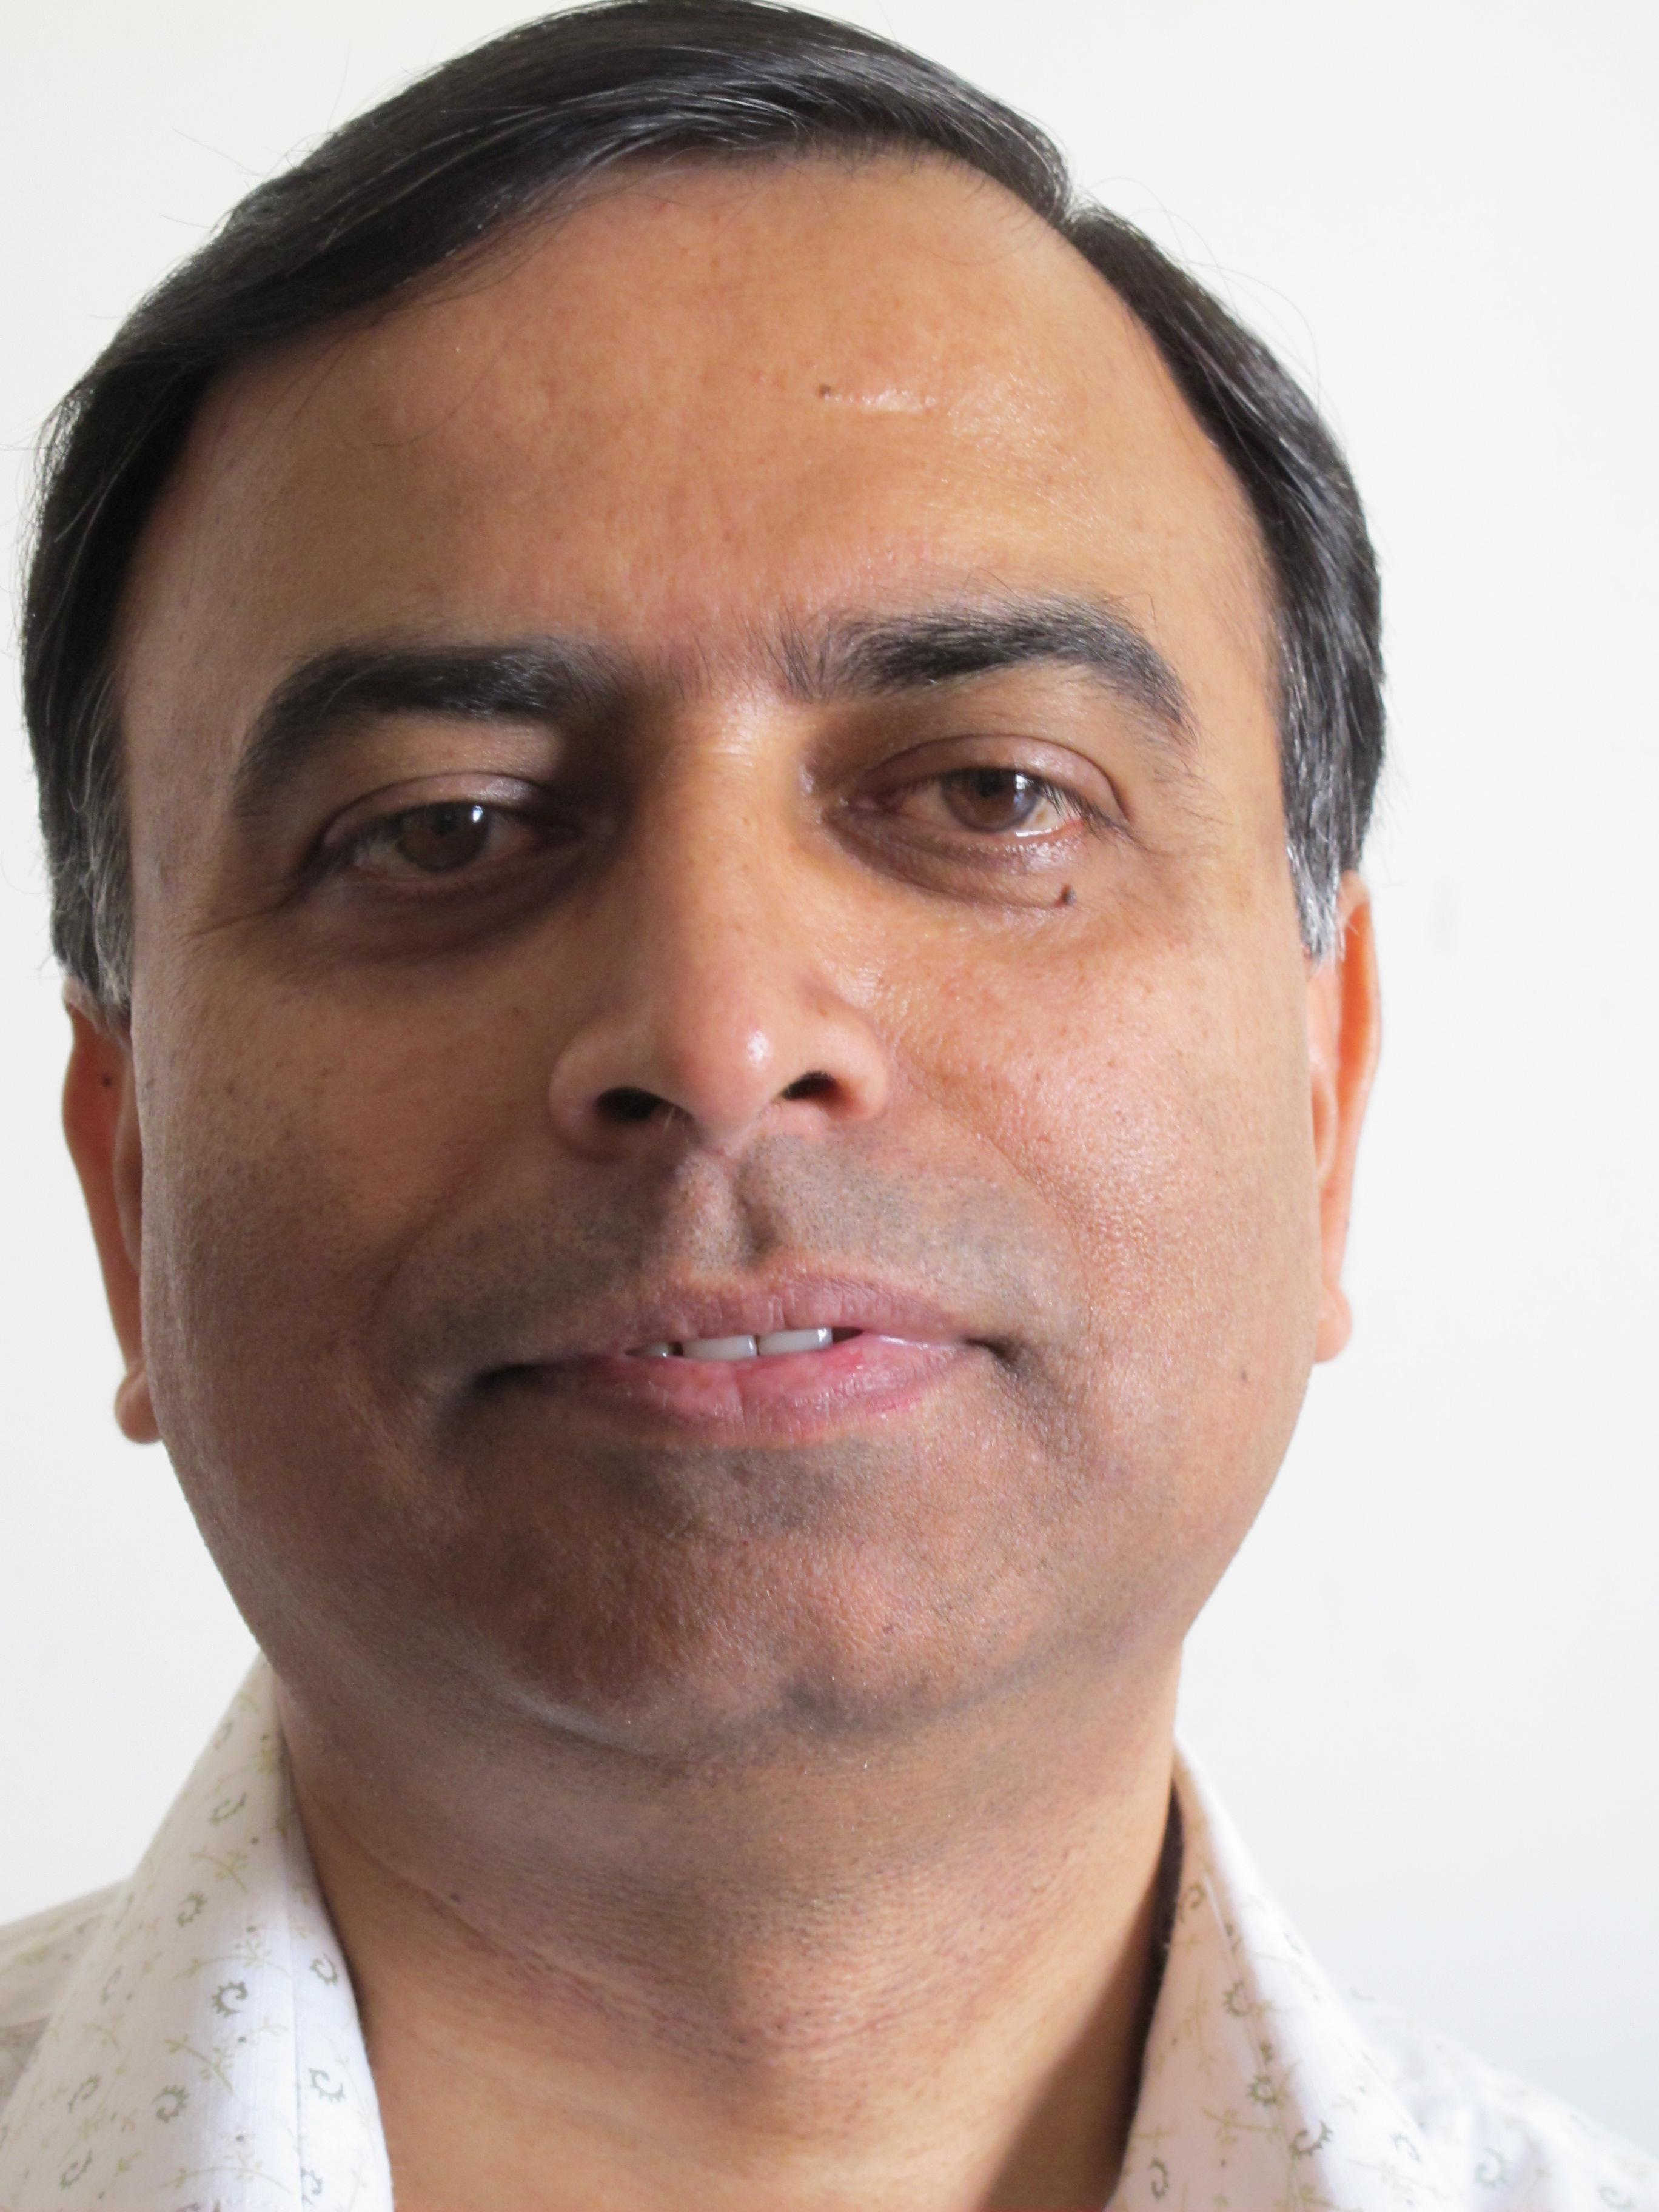Sober: (141, 390, 1284, 1639)
